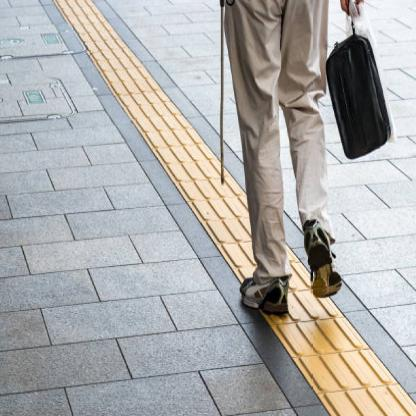podotacti: (57, 3, 212, 186), (275, 315, 416, 416)
